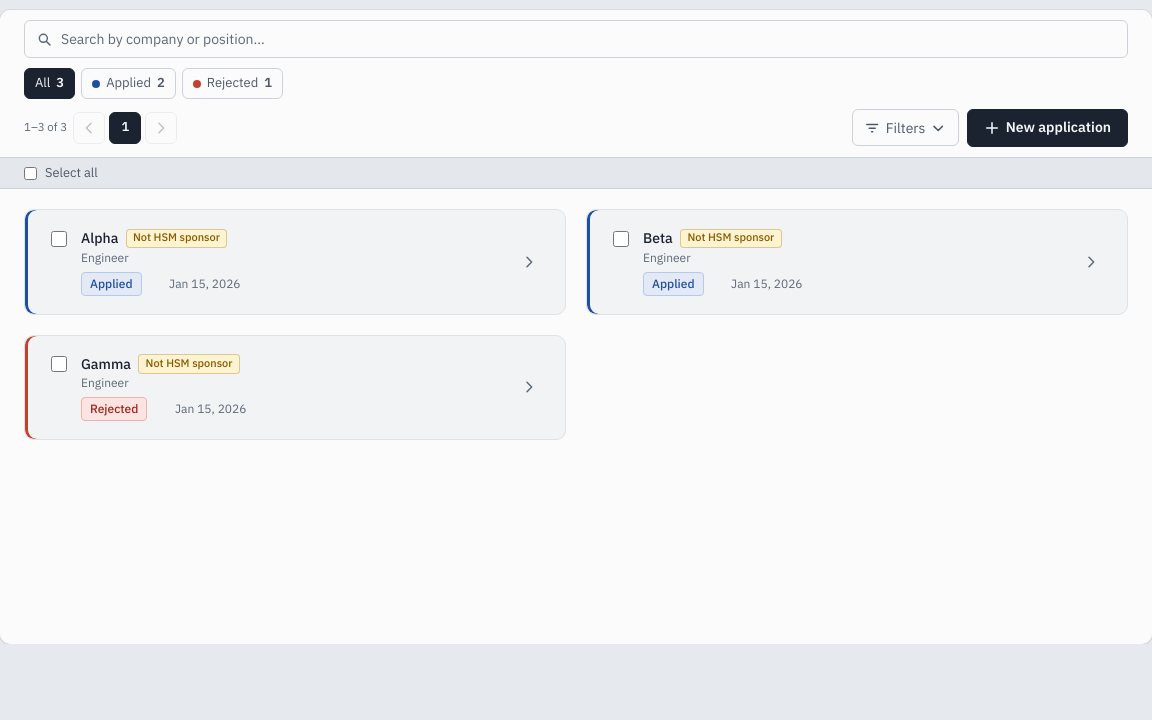
Scenario: ApplicationsView – status tabs › clicking All clears the status filter
The image size is (1152, 720).
Click the button with class "status-tab" showing "Applied 2" at (129, 84), box [81,68,176,99]
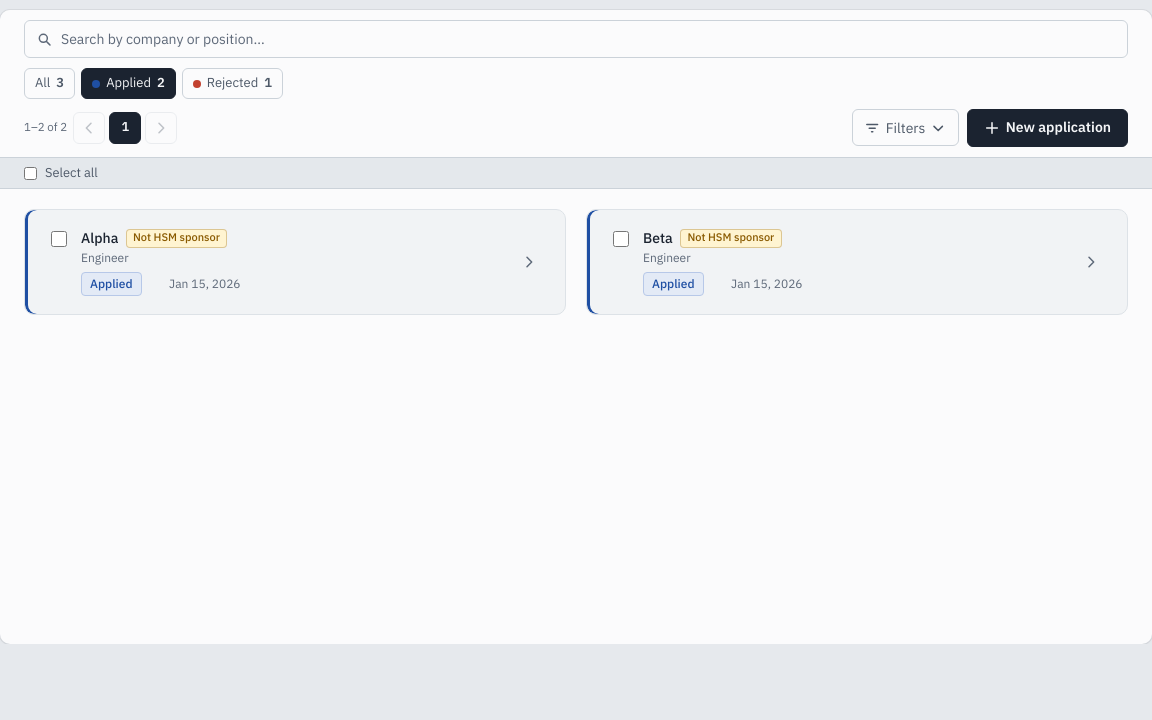
expect the number of list items with class "company-row" is 2: met, box [24,209,566,315]; [586,209,1128,315]
Click the button with class "status-tab" showing "All 3" at (50, 84), box [24,68,75,99]
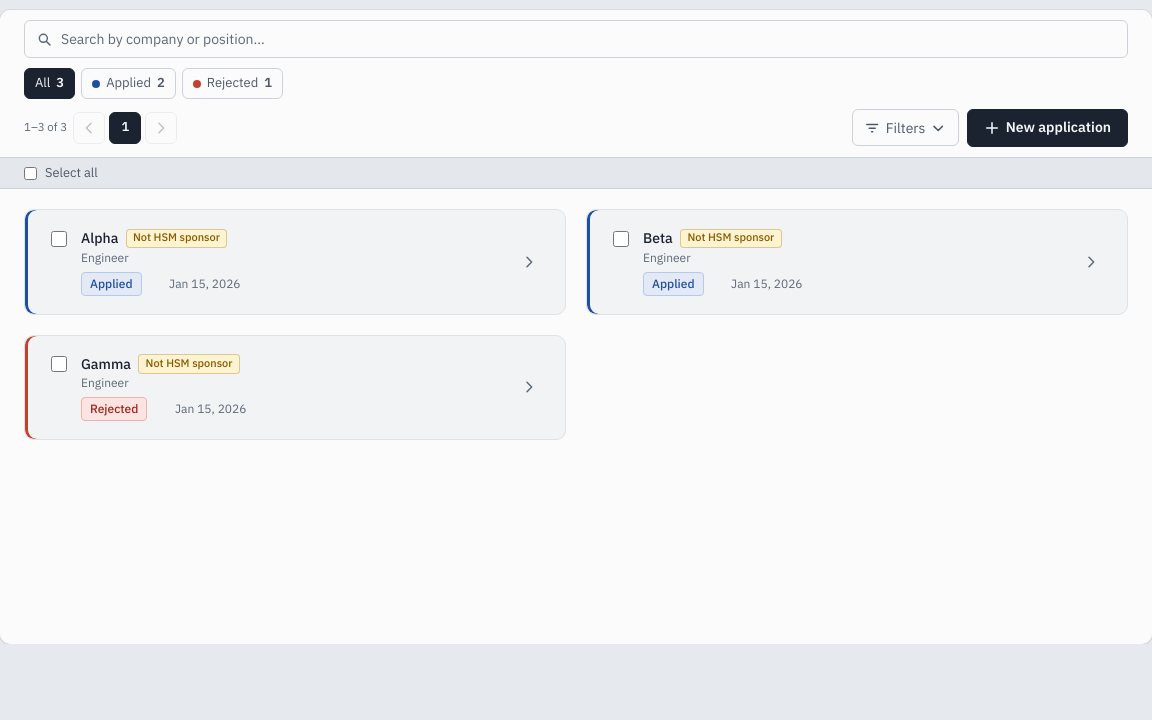
expect the number of list items with class "company-row" is 3: met, box [24,209,566,315]; [586,209,1128,315]; [24,335,566,440]
